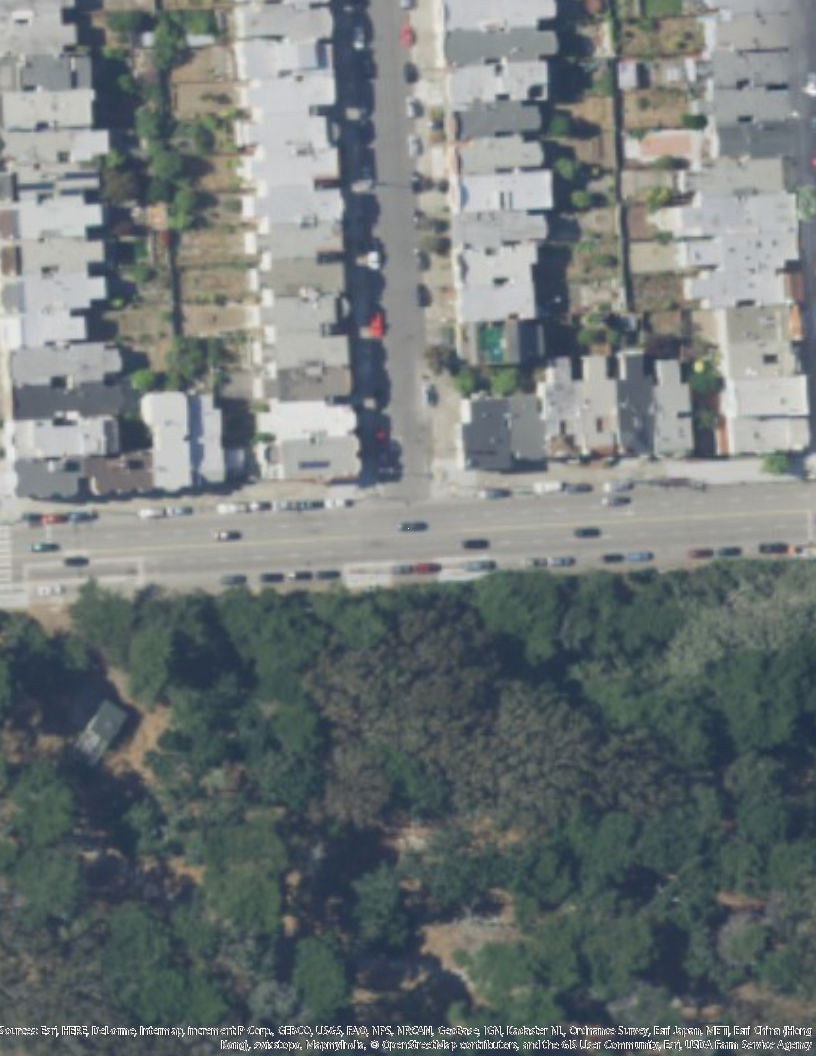zebracross: (1, 524, 12, 586)
